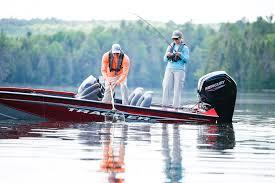fishing boat: (0, 26, 234, 125)
